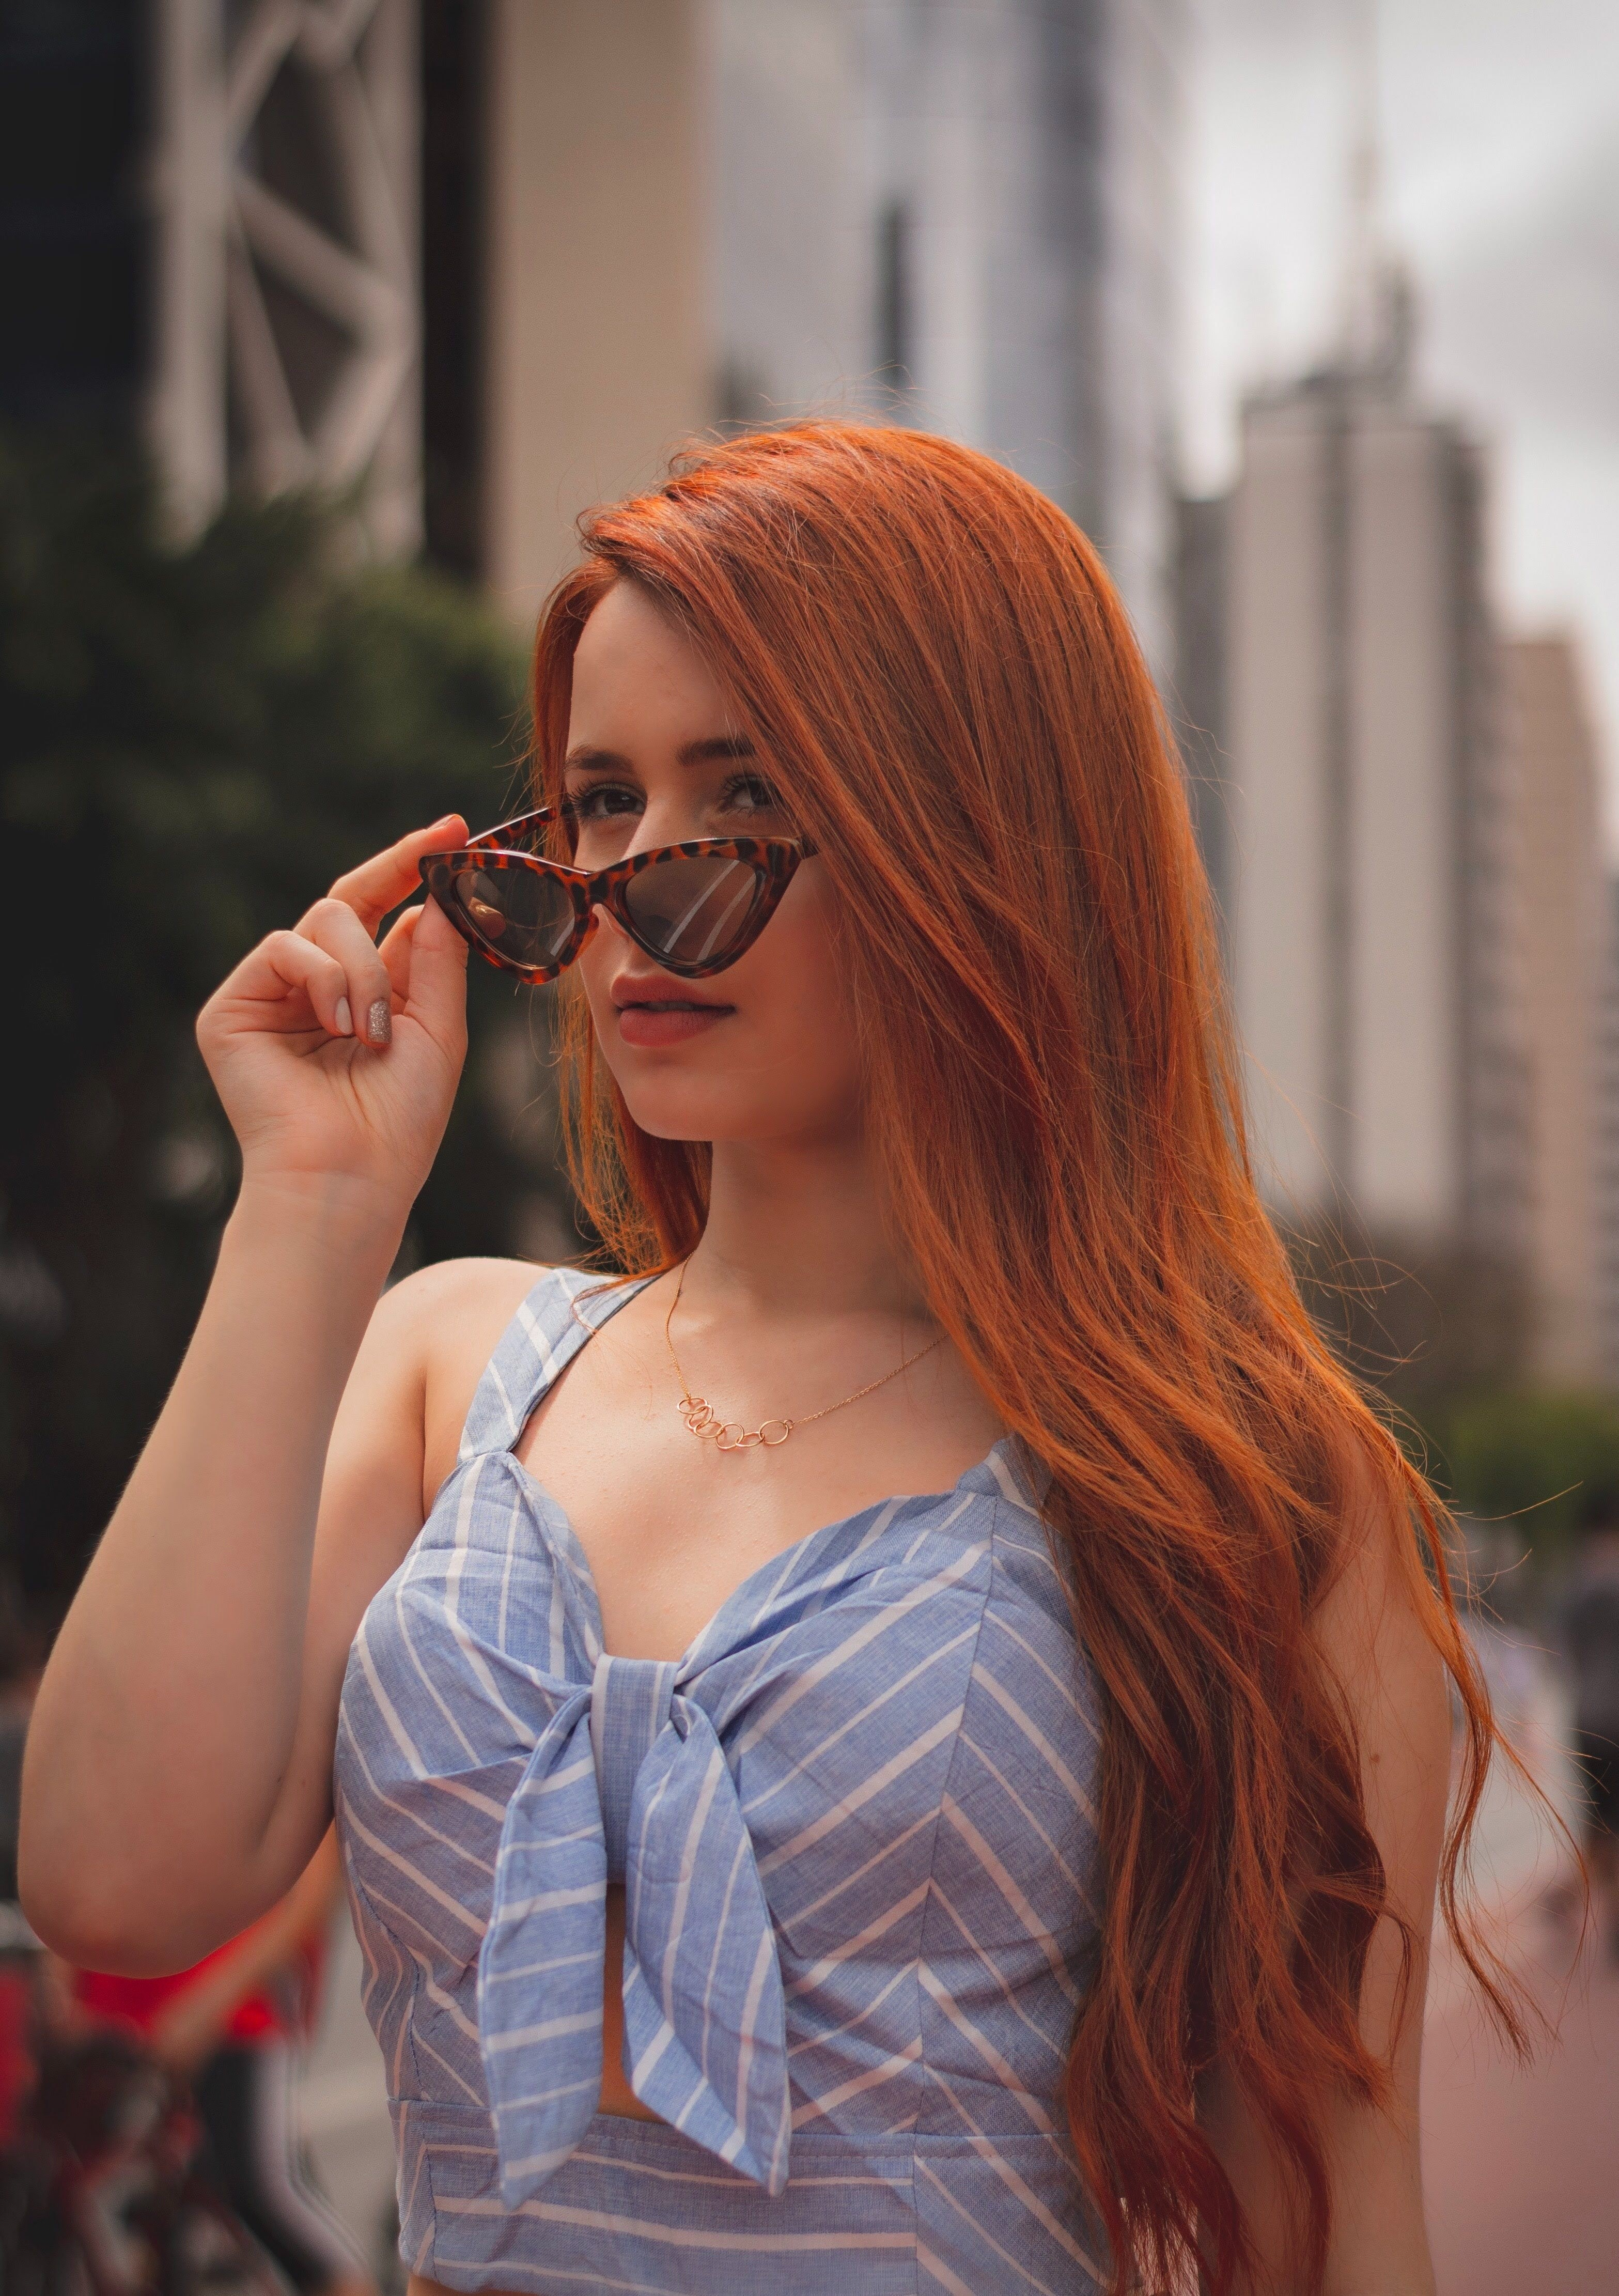face_no_mask: (526, 468, 1122, 1149)
